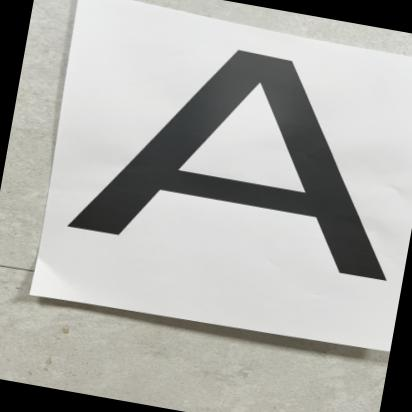seat: (55, 10, 412, 310)
